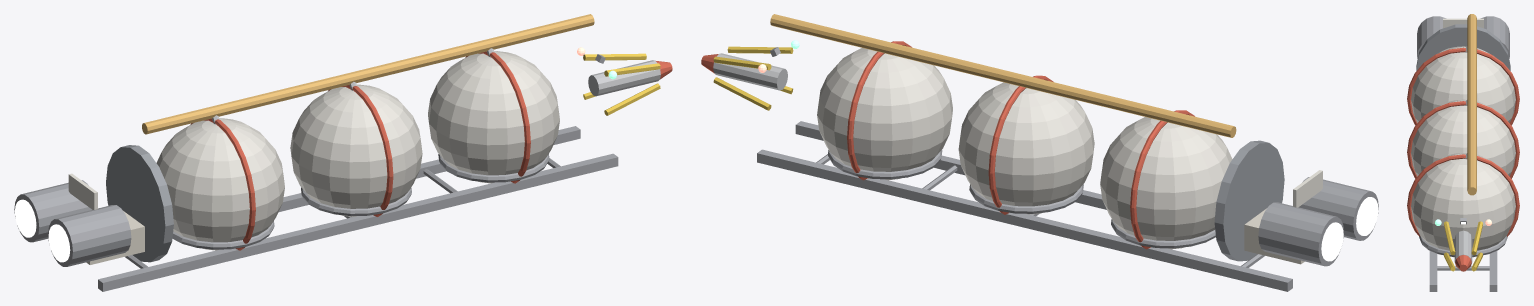
The model's file is volatiles_tanker.glb.
The picture shows the model from 3 angles, left to right: view 1: azimuth 30°, elevation 25°; view 2: azimuth 150°, elevation 25°; view 3: azimuth 270°, elevation 25°; orthographic projection. The views are drawn at different scales.
Visible parts, largest first — view 1: tnk_tank1, tnk_tank0, tnk_tank2, tnk_chord_s, tnk_pipe_main, tnk_blast_disc, tnk_drive_s_shroud, tnk_drive_p_shroud, tnk_probe, tnk_chord_p, tnk_band0, tnk_band2 (+8 smaller); view 2: tnk_tank1, tnk_tank0, tnk_tank2, tnk_chord_p, tnk_pipe_main, tnk_blast_disc, tnk_drive_p_shroud, tnk_drive_s_shroud, tnk_probe, tnk_chord_s, tnk_band2, tnk_band1 (+9 smaller); view 3: tnk_tank0, tnk_tank2, tnk_tank1, tnk_blast_disc, tnk_pipe_main, tnk_band0, tnk_band1, tnk_band2, tnk_drive_p_shroud, tnk_drive_s_shroud, tnk_probe, tnk_cradle0 (+9 smaller).
Part boxes in pixels (box(x1,y1,x2,y2)): tnk_tank1: box(290, 84, 422, 216); tnk_tank0: box(428, 51, 559, 183); tnk_tank2: box(156, 118, 284, 250); tnk_chord_s: box(98, 153, 618, 291); tnk_pipe_main: box(142, 14, 594, 134); tnk_blast_disc: box(106, 145, 173, 262); tnk_drive_s_shroud: box(48, 205, 131, 266); tnk_drive_p_shroud: box(14, 180, 91, 242); tnk_probe: box(588, 60, 660, 96); tnk_chord_p: box(278, 126, 580, 211); tnk_band0: box(465, 51, 530, 183); tnk_band2: box(190, 118, 255, 250); tnk_tank1: box(958, 82, 1094, 214); tnk_tank0: box(817, 48, 952, 180); tnk_tank2: box(1100, 117, 1232, 249); tnk_chord_p: box(757, 149, 1292, 291); tnk_pipe_main: box(770, 14, 1236, 137); tnk_blast_disc: box(1214, 140, 1284, 261); tnk_drive_p_shroud: box(1258, 202, 1343, 266); tnk_drive_s_shroud: box(1299, 177, 1378, 240); tnk_probe: box(713, 53, 787, 90); tnk_chord_s: box(795, 121, 1106, 209); tnk_band2: box(1130, 110, 1194, 249); tnk_band1: box(988, 75, 1053, 214); tnk_tank0: box(1411, 153, 1515, 257); tnk_tank2: box(1411, 46, 1515, 122); tnk_tank1: box(1411, 99, 1515, 176); tnk_blast_disc: box(1416, 24, 1510, 70); tnk_pipe_main: box(1467, 14, 1476, 195); tnk_band0: box(1407, 154, 1519, 236); tnk_band1: box(1407, 101, 1519, 178); tnk_band2: box(1407, 47, 1519, 125); tnk_drive_p_shroud: box(1480, 16, 1509, 58); tnk_drive_s_shroud: box(1417, 16, 1446, 58); tnk_probe: box(1454, 230, 1472, 268); tnk_cradle0: box(1419, 236, 1507, 256).
Size of the model in its own units: 36.59 by 7.67 by 7.16.
